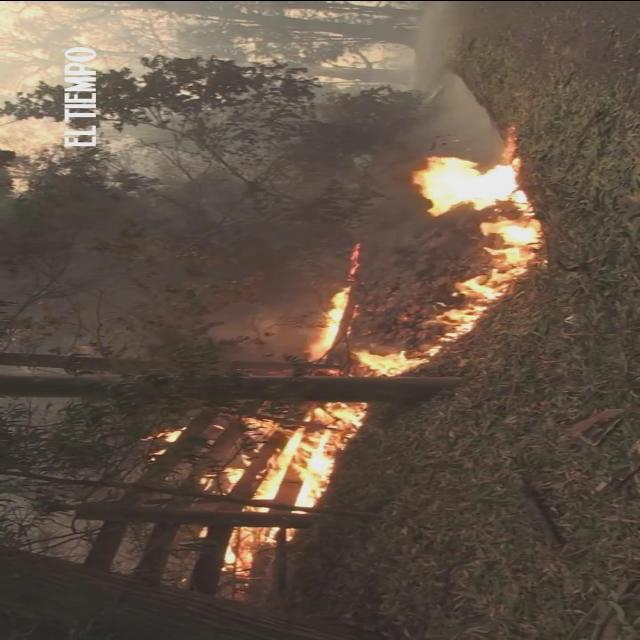Fire: (407, 150, 544, 296), (193, 401, 368, 514), (358, 302, 487, 374), (218, 526, 294, 576), (306, 287, 348, 359), (136, 424, 186, 443), (340, 241, 364, 277)
